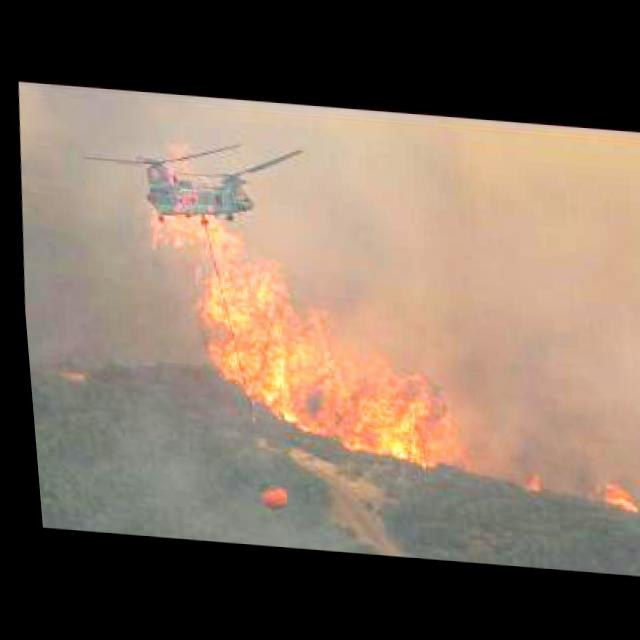Fire: (128, 203, 473, 472), (585, 474, 635, 511), (513, 466, 536, 490)
